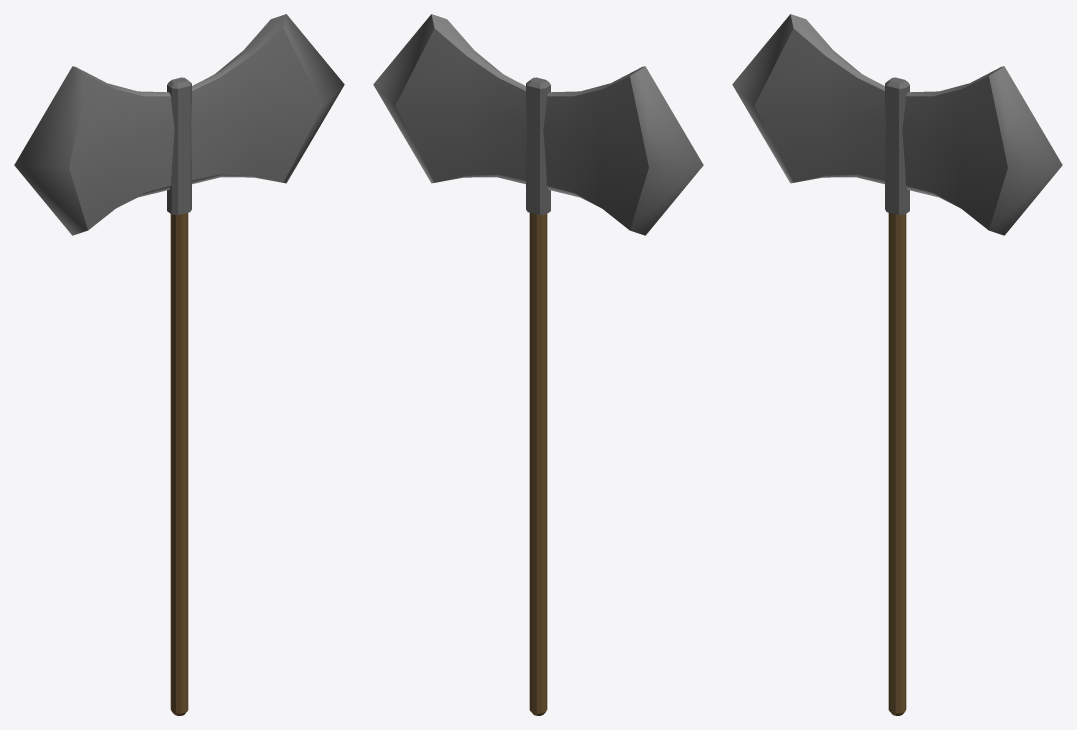
File: balta.fbx
3 views of the same model, side by side, from view 1: azimuth 30°, elevation 25°; view 2: azimuth 150°, elevation 25°; view 3: azimuth 330°, elevation 25° (orthographic).
Parts seen in each view (by area): view 1: balta; view 2: balta; view 3: balta.
Boxes of the visible parts, box(x1,y1,x2,y2) form: balta: box(14, 14, 344, 715); balta: box(373, 14, 703, 715); balta: box(732, 14, 1062, 715).
Size of the model in its own units: 18.12 by 35.27 by 3.11.
